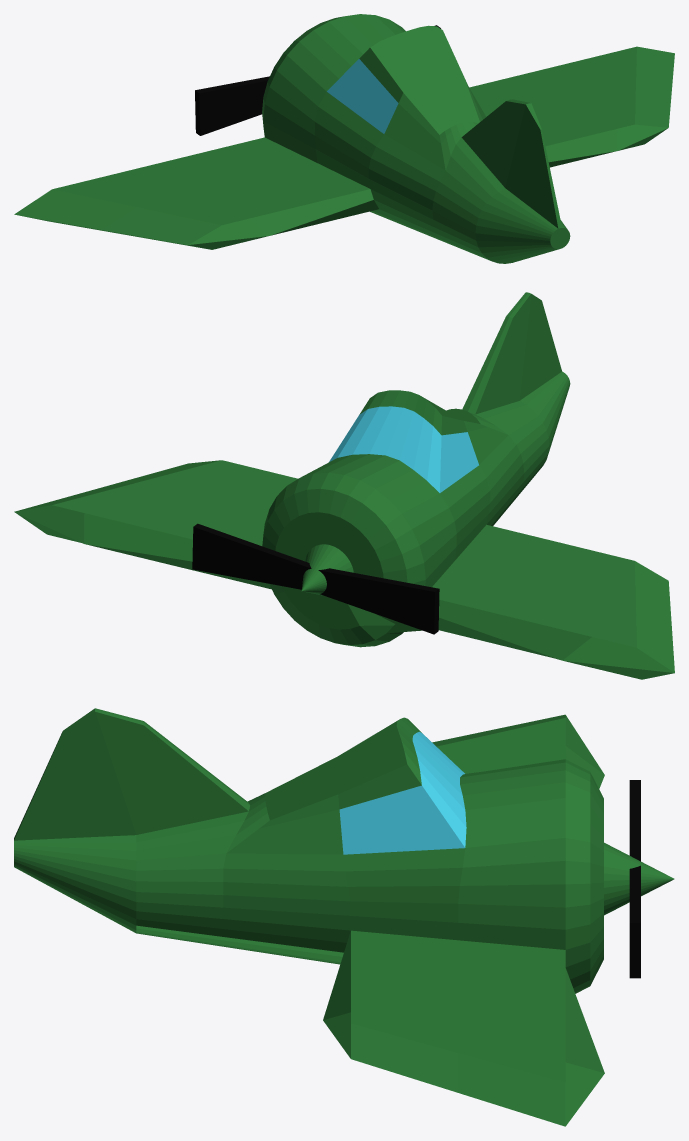
3 renders of one model, top to bottom at view 1: azimuth 30°, elevation 25°; view 2: azimuth 150°, elevation 25°; view 3: azimuth 270°, elevation 25°, orthographic. The views are drawn at different scales.
Parts seen in each view (by area): view 1: Cylinder; view 2: Cylinder; view 3: Cylinder.
Boxes of the visible parts, x1,y1,x2,y2 form: Cylinder: [14, 14, 674, 263]; Cylinder: [14, 292, 674, 679]; Cylinder: [14, 708, 674, 1126].
Size of the model in its own units: 537 by 169 by 364.
